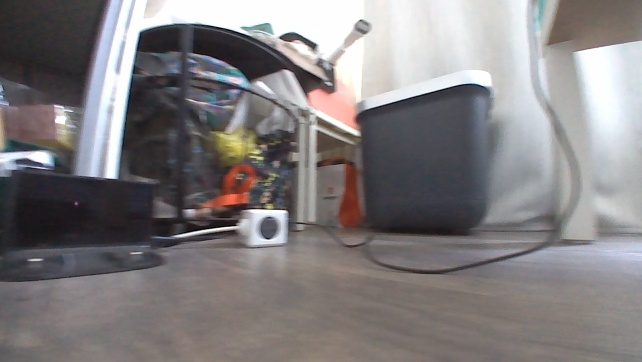charger: (0, 164, 169, 287)
wire: (290, 217, 562, 278), (176, 220, 236, 241)
